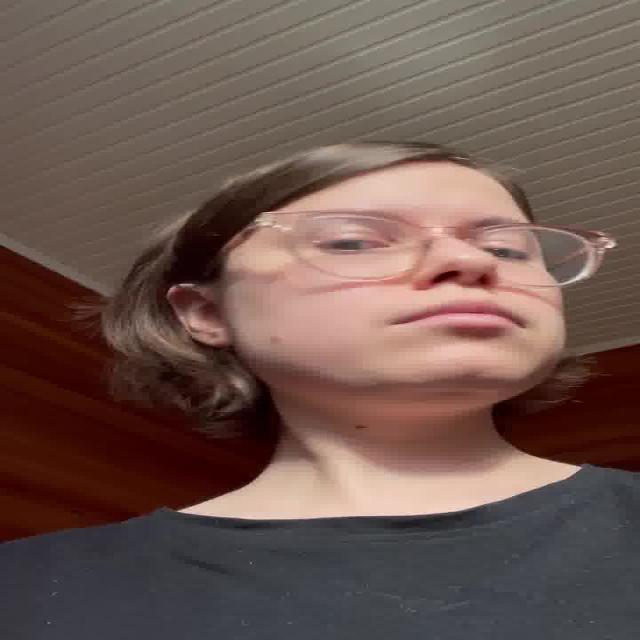earlobe: (196, 326, 234, 347)
eye: (314, 234, 394, 253), (474, 240, 529, 262)
nose: (416, 276, 507, 298)
wholeear: (164, 283, 233, 347)
